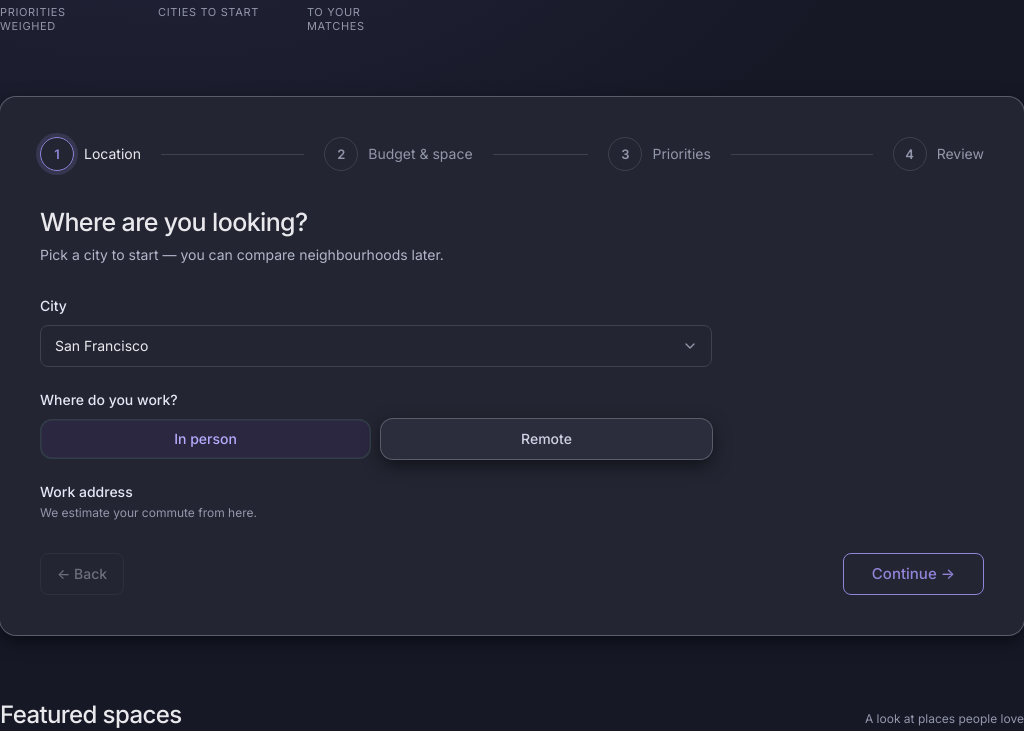
Test: search wizard › can go back, and Back is disabled on the first step
(page scrolled)
Expected: the button "← Back" is disabled, [40, 553, 124, 595]
Click the button "Continue →".
click(913, 574)  # box [843, 553, 984, 595]
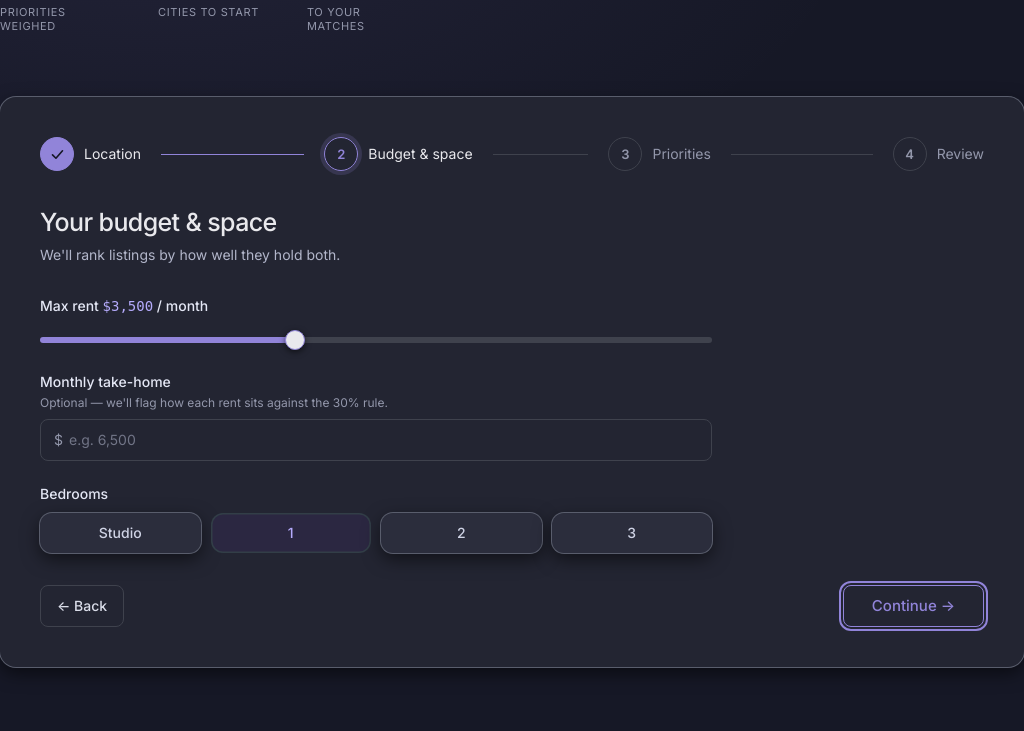
Click the button "Continue →".
click(913, 606)  # box [843, 585, 984, 627]
(page scrolled)
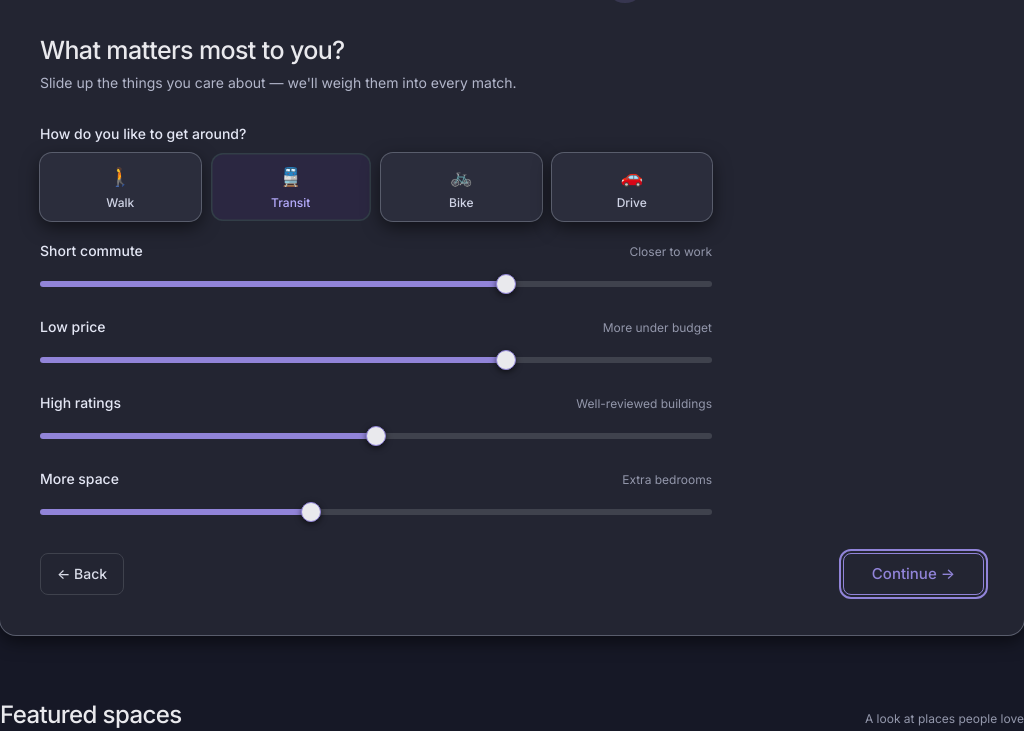
Result: the heading "What matters most to you?" is shown at [40, 35, 345, 65]
Click the button "← Back".
click(82, 574)  # box [40, 553, 124, 595]
(page scrolled)
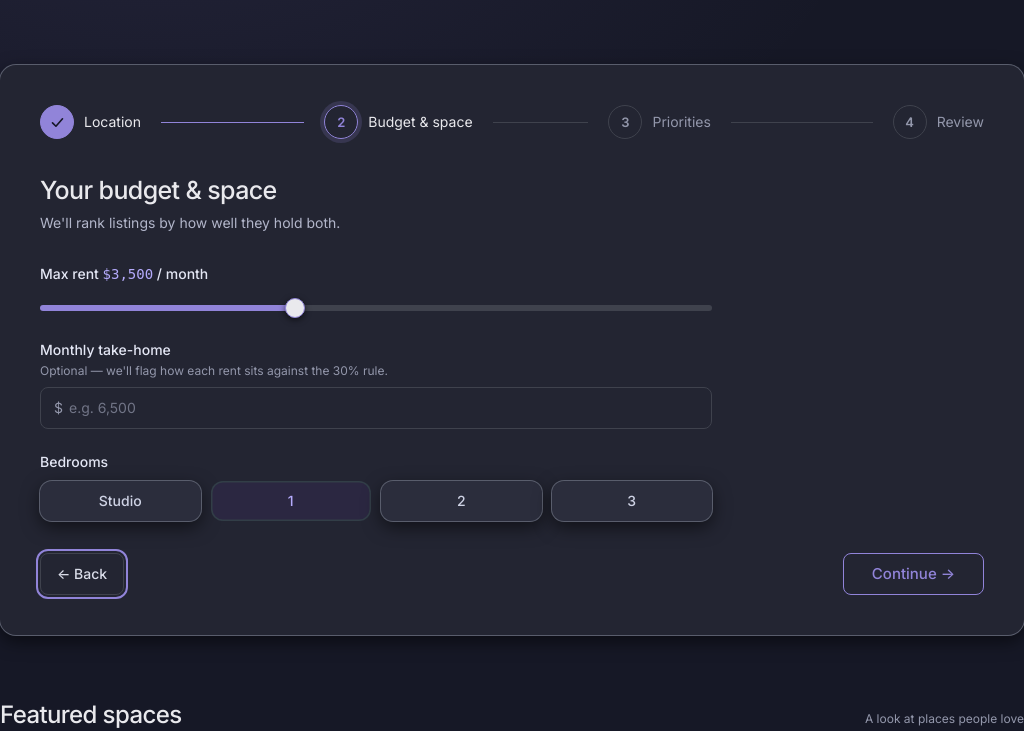
Result: the heading "Your budget & space" is shown at [40, 175, 277, 205]
